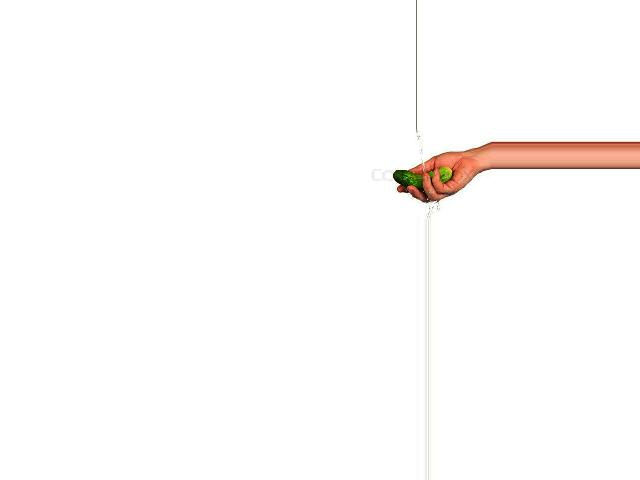cucumber: (393, 167, 452, 189)
